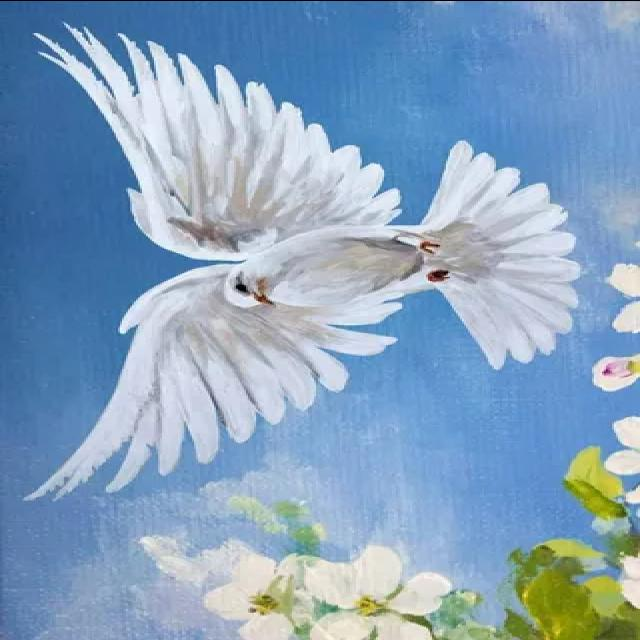pigeon: (10, 15, 582, 509)
